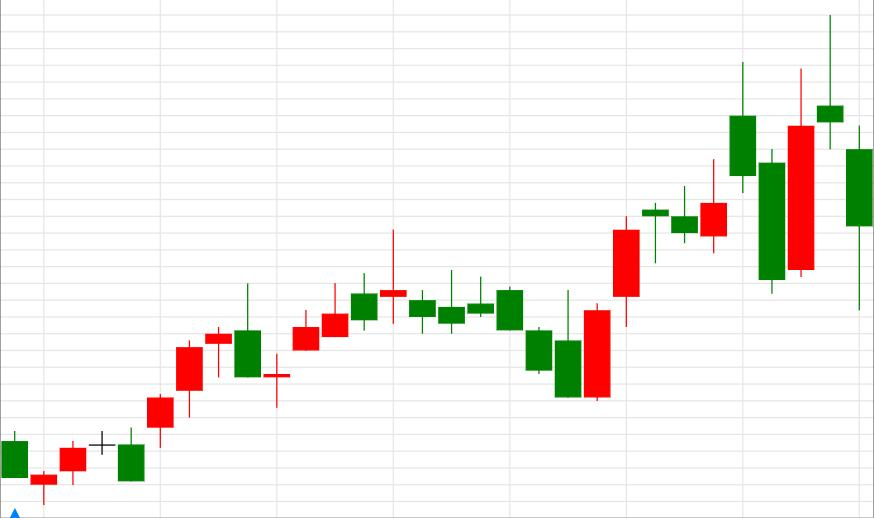shooting_star_fall: (583, 160, 727, 402)
